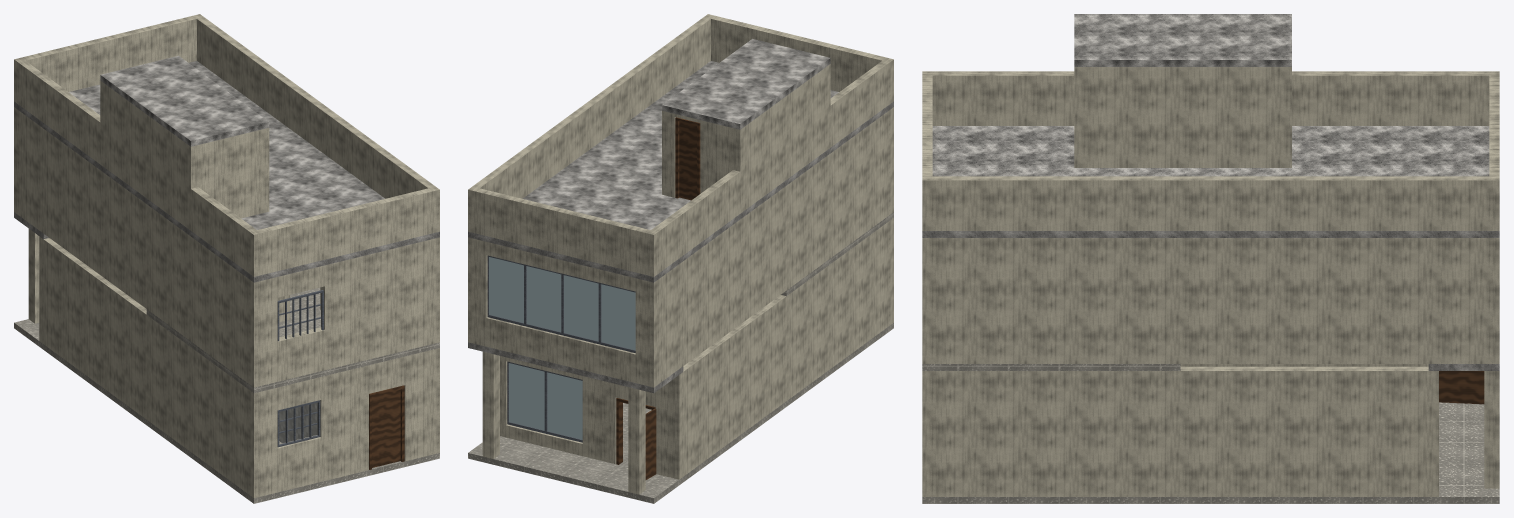
File: rowhouse_aged.fbx
3 views of the same model, side by side, from view 1: azimuth 30°, elevation 25°; view 2: azimuth 150°, elevation 25°; view 3: azimuth 270°, elevation 25° (orthographic). The views are drawn at different scales.
Parts seen in each view (by area): view 1: rowhouse_aged; view 2: rowhouse_aged; view 3: rowhouse_aged.
Part boxes in pixels (left/top/right/bottom): rowhouse_aged: left=14, top=14, right=439, bottom=503; rowhouse_aged: left=468, top=14, right=893, bottom=503; rowhouse_aged: left=922, top=14, right=1499, bottom=503.
Size of the model in its own units: 510 by 830 by 1140.
